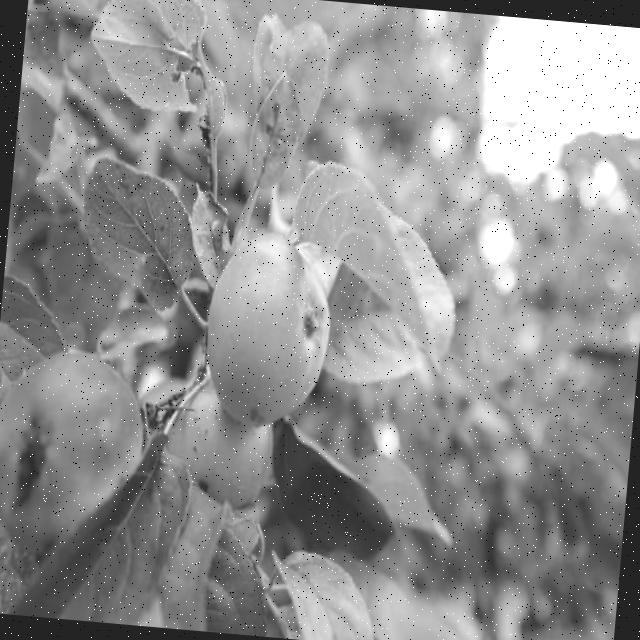Unripe: (0, 345, 149, 552), (196, 226, 336, 432)
